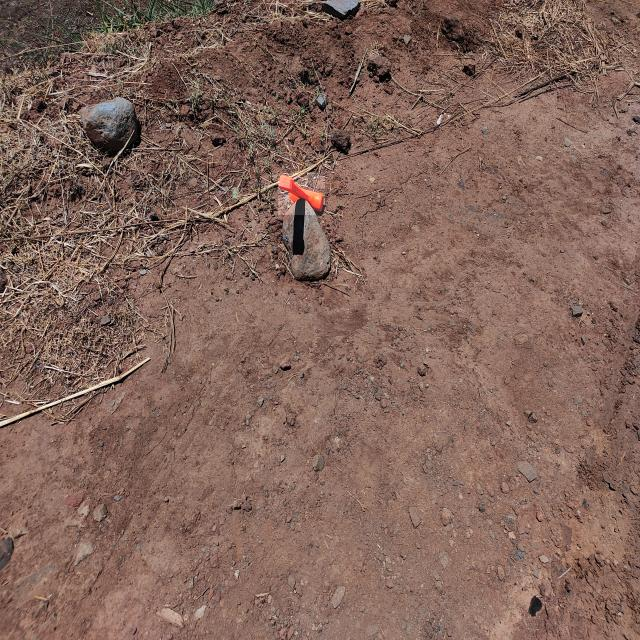Orange_hammer: (278, 173, 325, 215)
